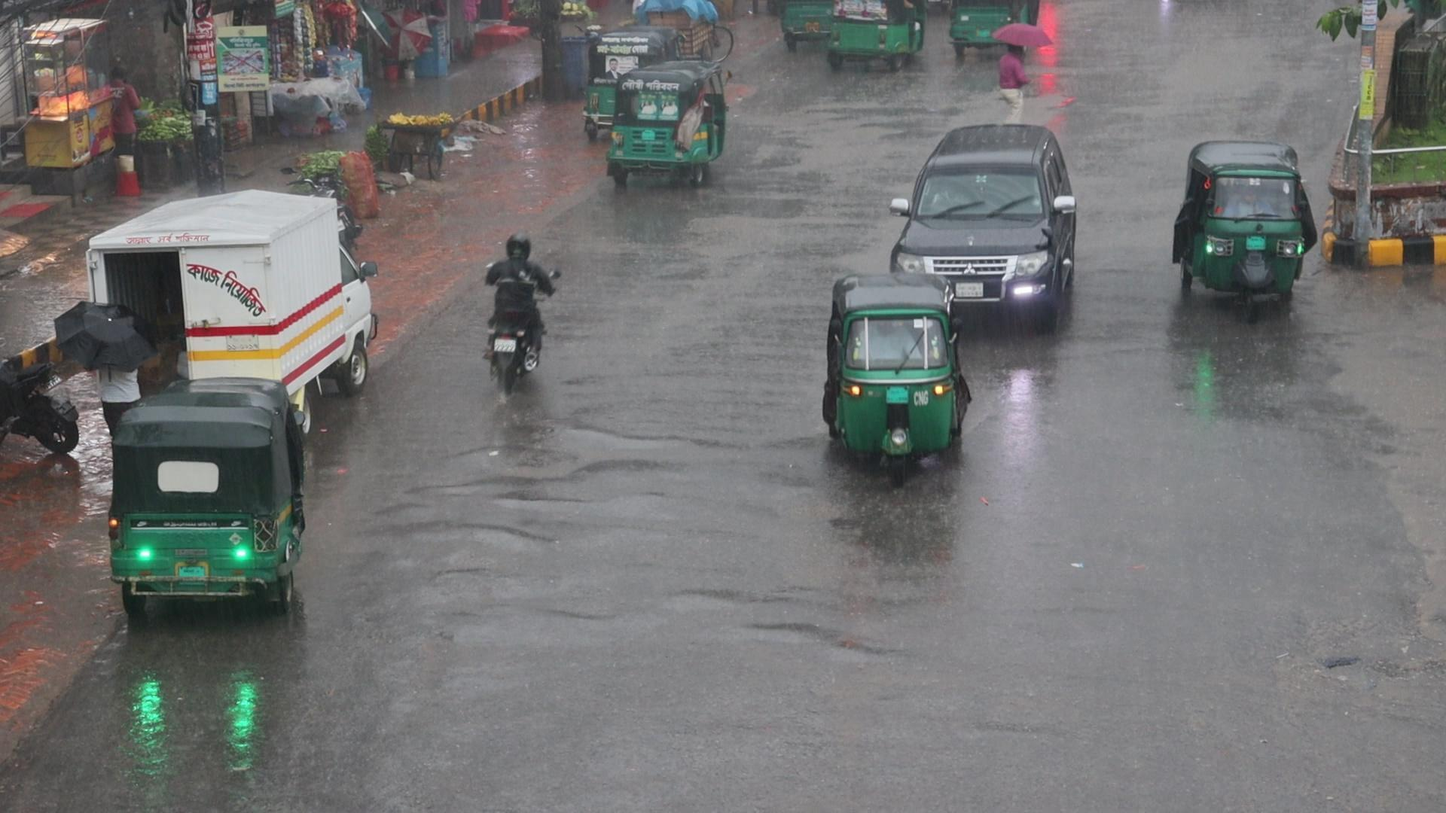Bike: (478, 228, 556, 388)
Car: (874, 113, 1084, 347)
